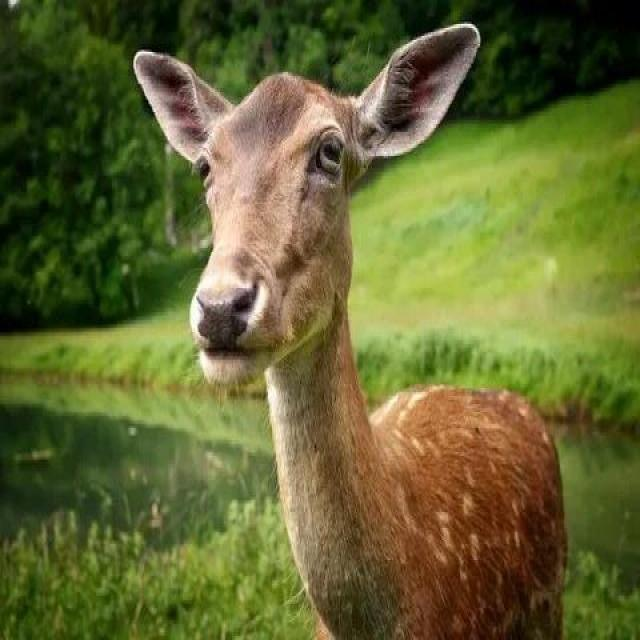deer: (180, 33, 580, 626)
